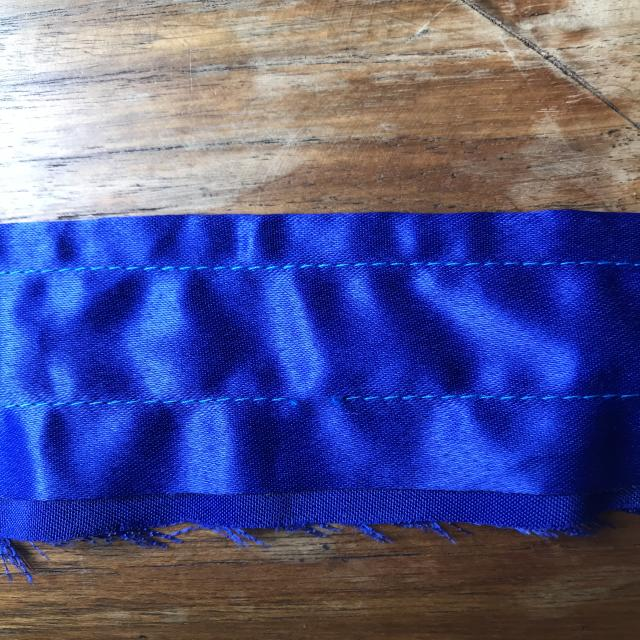broken: (254, 378, 383, 427)
good: (236, 252, 391, 284)
